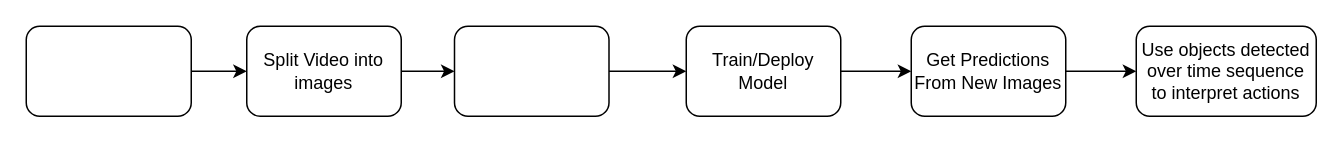
Image size: 1343x143. Some labels were removed from this diagram. Each missing label, with the centre of its shape:
Label Images: point (531, 70)
Upload Video: point (108, 70)
